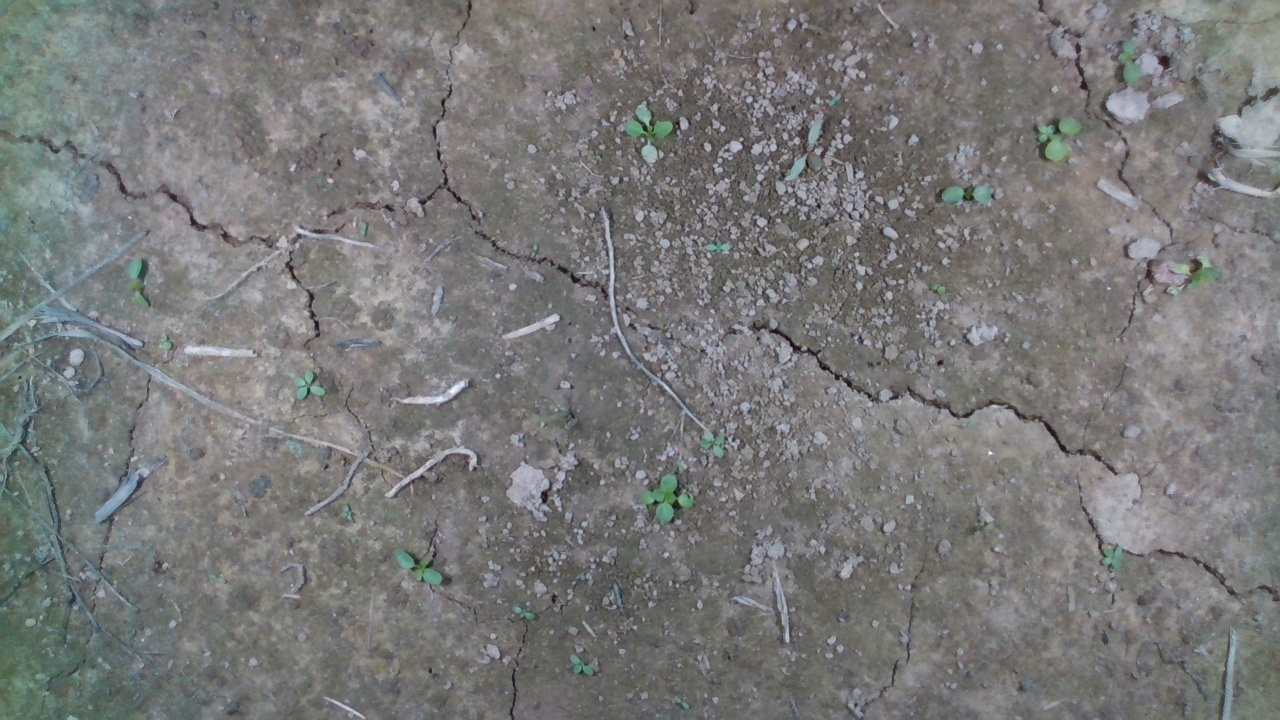weed: (640, 471, 688, 532), (620, 102, 674, 146), (390, 547, 446, 589), (947, 177, 1012, 211), (1039, 110, 1073, 167), (565, 650, 600, 686), (294, 368, 327, 403), (706, 429, 736, 465)
